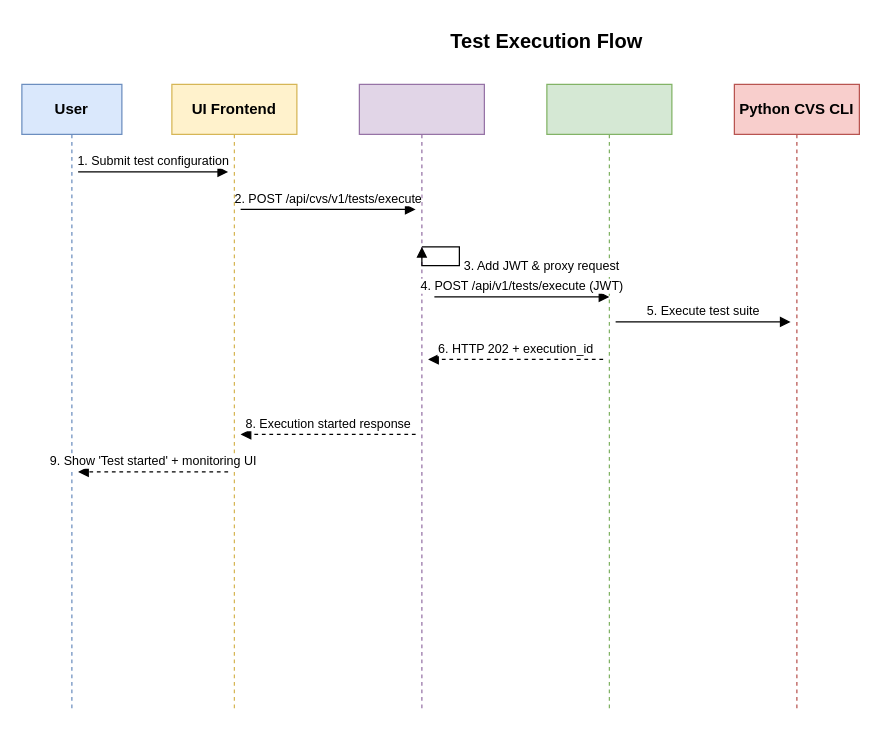
Image size: 881x731. Some labels were removed from this diagram. Here are the shapes that lost their labels. From the top down, the box of each, then its label:
(358, 83, 484, 709): UI Backend
(546, 83, 672, 709): CVS API Server
